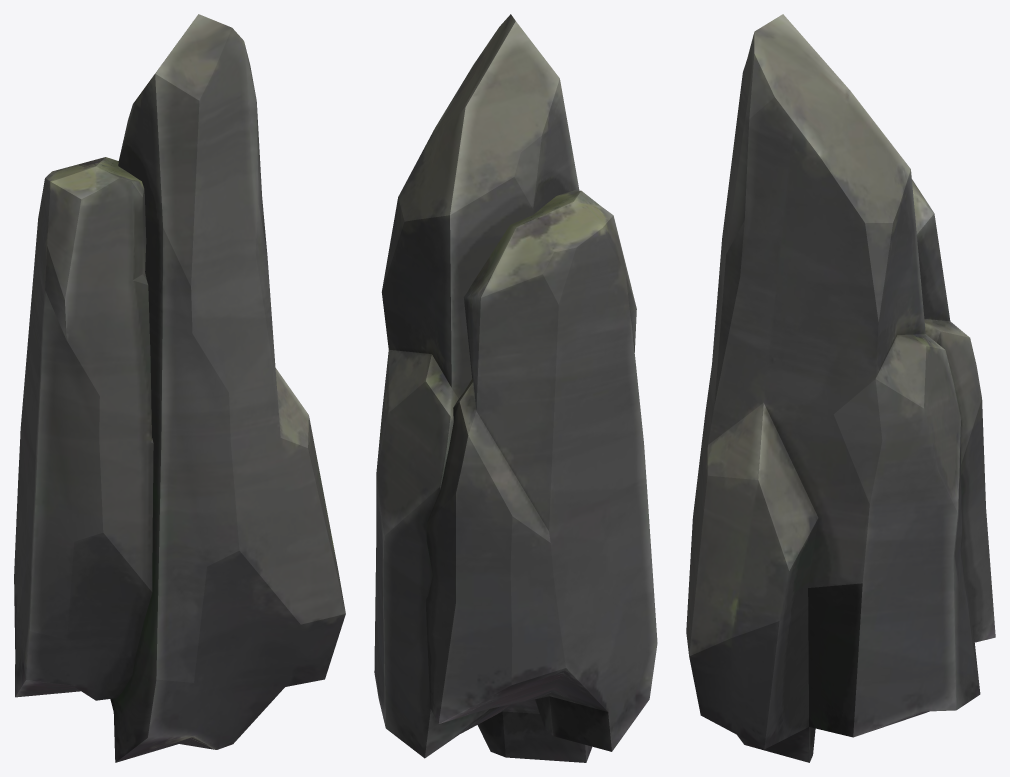
The model's file is Rock_4.gltf.
3 renders of one model, left to right at view 1: azimuth 30°, elevation 25°; view 2: azimuth 150°, elevation 25°; view 3: azimuth 270°, elevation 25°, orthographic. The views are drawn at different scales.
Visible parts, largest first — view 1: Rock_4; view 2: Rock_4; view 3: Rock_4.
Boxes of the visible parts, left/top/right/bottom form: Rock_4: left=14, top=14, right=345, bottom=762; Rock_4: left=374, top=14, right=657, bottom=762; Rock_4: left=686, top=14, right=995, bottom=762.
Size of the model in its own units: 0.8592 by 2.15 by 0.8124.
1 material, 1 textured.
